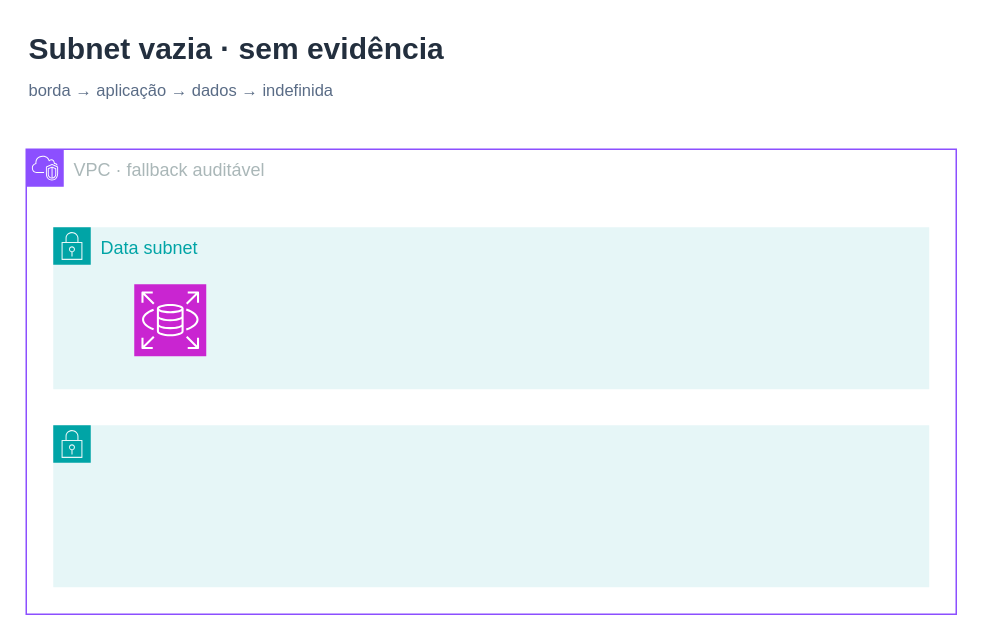
Image size: 983x641. Some labels were removed from this diagram. Each missing label, with the centre of its shape:
"Amazon RDS" belongs at (169,319).
"Subnet vazia · camada indefinida" belongs at (490,505).
